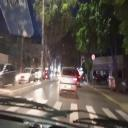NoEstacionar: (91, 52, 96, 62)
